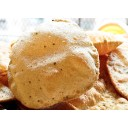poori: (8, 19, 99, 105), (81, 25, 124, 54), (109, 35, 128, 97)
